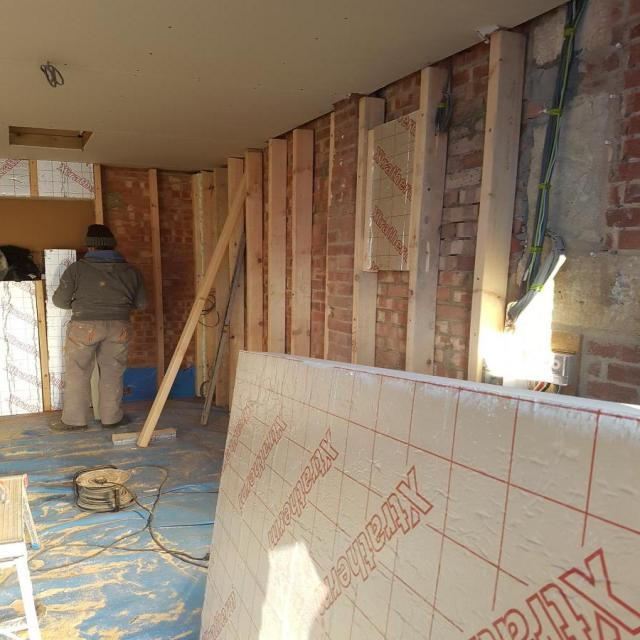wood: (136, 174, 244, 447), (468, 30, 526, 383), (406, 66, 451, 375), (352, 97, 386, 366), (291, 130, 314, 358), (267, 138, 288, 354), (228, 158, 245, 418), (245, 148, 263, 352), (149, 169, 165, 392), (35, 279, 51, 412), (94, 163, 104, 225), (29, 160, 38, 197)
